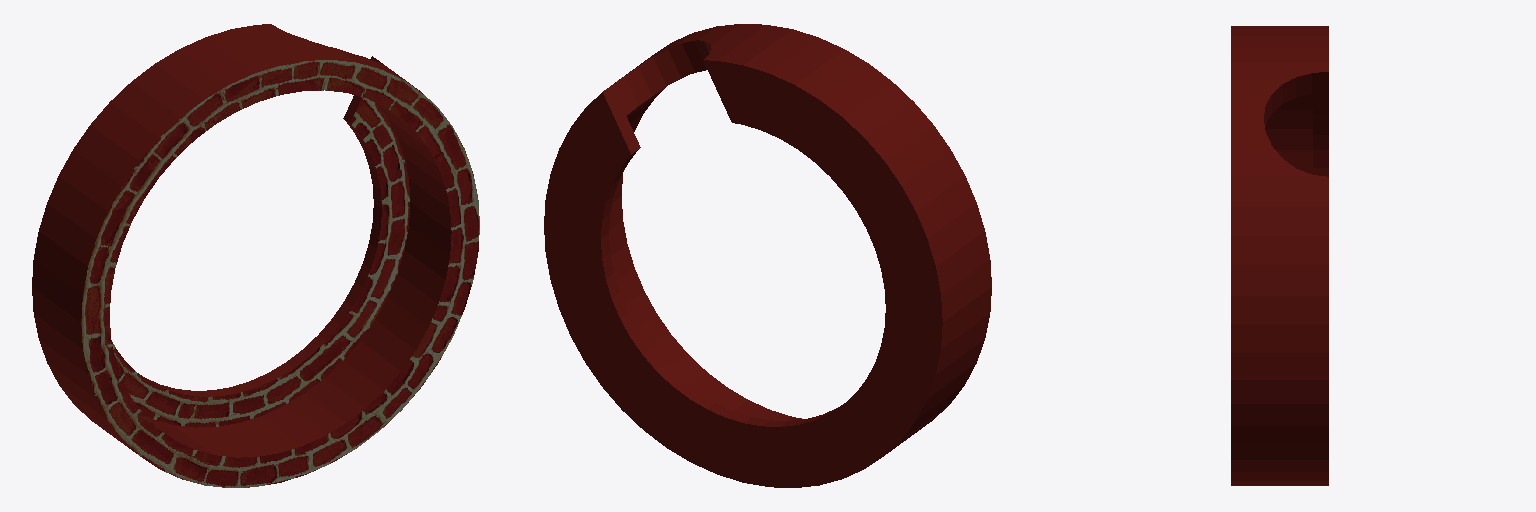
The picture shows the model from 3 angles: view 1: azimuth 30°, elevation 25°; view 2: azimuth 150°, elevation 25°; view 3: azimuth 270°, elevation 25°; orthographic projection.
Bounding box in the file's own units: 14 × 14 × 3.
Materials: 1 (1 with a texture image).